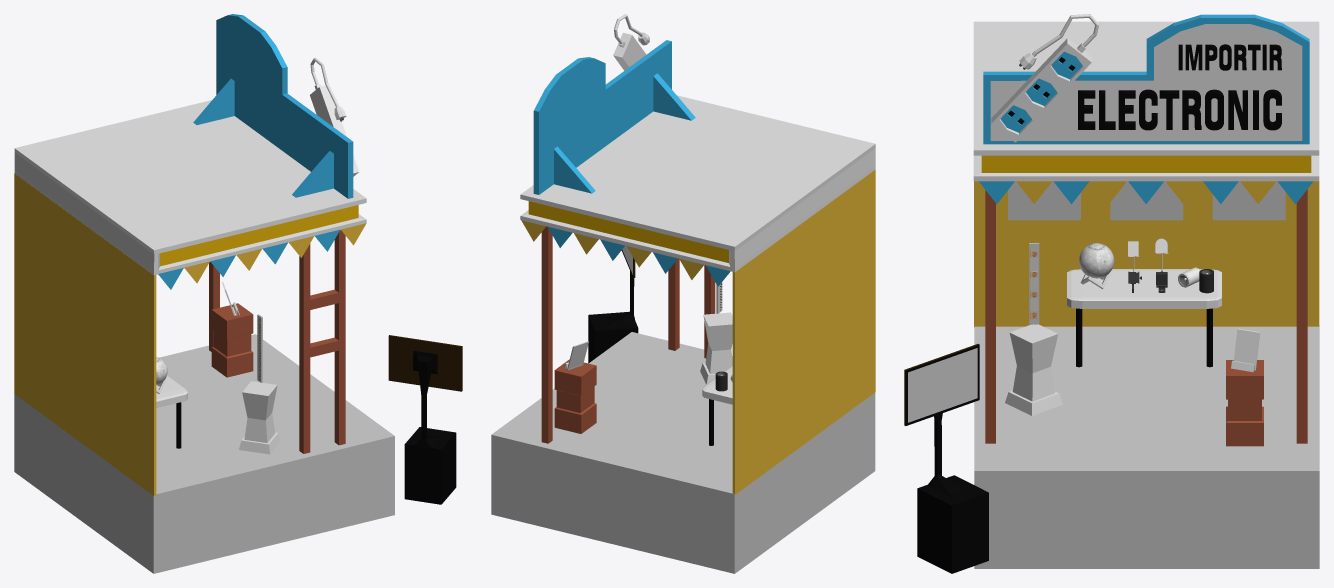
File: Booth_Elec.fbx
3 views of the same model, side by side, from view 1: azimuth 30°, elevation 25°; view 2: azimuth 150°, elevation 25°; view 3: azimuth 270°, elevation 25° (orthographic). The views are drawn at different scales.
Visible parts, largest first — view 1: Cube.109, Cube.041, Cube.044, Cube.051, Cube.043, Cube.114, Cube.115, Cube.119, Cube.167, Plane.017, Plane.016, Cube.088 (+2 smaller); view 2: Cube.109, Cube.041, Cube.044, Cube.051, Cube.119, Cube.042, Cube.114, Cube.167, Cube.043, Plane.020, Plane.021, Cube.088 (+1 smaller); view 3: Cube.109, Cube.044, Cube.051, Cube.041, Cube.114, Cube.117, Text.023, Cube.115, Cube.088, Cube.167, Cube.119, Cube.042 (+11 smaller).
Boxes of the visible parts, x1=… form: Cube.109: x1=14, y1=334, x2=394, y2=573; Cube.041: x1=14, y1=100, x2=366, y2=275; Cube.044: x1=14, y1=173, x2=156, y2=495; Cube.051: x1=193, y1=14, x2=353, y2=198; Cube.043: x1=299, y1=230, x2=345, y2=453; Cube.114: x1=404, y1=350, x2=456, y2=504; Cube.115: x1=388, y1=335, x2=462, y2=391; Cube.119: x1=211, y1=303, x2=253, y2=377; Cube.167: x1=239, y1=381, x2=280, y2=454; Plane.017: x1=184, y1=223, x2=366, y2=283; Plane.016: x1=158, y1=229, x2=339, y2=289; Cube.088: x1=310, y1=84, x2=359, y2=176; Cube.109: x1=491, y1=332, x2=875, y2=573; Cube.041: x1=520, y1=95, x2=875, y2=272; Cube.044: x1=732, y1=169, x2=875, y2=494; Cube.051: x1=533, y1=40, x2=695, y2=194; Cube.119: x1=554, y1=359, x2=596, y2=433; Cube.042: x1=541, y1=226, x2=552, y2=443; Cube.114: x1=588, y1=271, x2=638, y2=363; Cube.167: x1=700, y1=312, x2=732, y2=384; Cube.043: x1=668, y1=258, x2=715, y2=358; Plane.020: x1=548, y1=227, x2=730, y2=286; Plane.021: x1=521, y1=220, x2=703, y2=279; Cube.088: x1=613, y1=32, x2=649, y2=70; Cube.109: x1=974, y1=325, x2=1319, y2=568; Cube.044: x1=974, y1=181, x2=1319, y2=327; Cube.051: x1=983, y1=14, x2=1309, y2=144; Cube.041: x1=973, y1=21, x2=1319, y2=181; Cube.114: x1=917, y1=413, x2=988, y2=573; Cube.117: x1=1067, y1=269, x2=1221, y2=367; Text.023: x1=1078, y1=89, x2=1281, y2=130; Cube.115: x1=904, y1=344, x2=979, y2=425; Cube.088: x1=991, y1=38, x2=1091, y2=142; Cube.167: x1=1005, y1=324, x2=1062, y2=415; Cube.119: x1=1226, y1=360, x2=1263, y2=446; Cube.042: x1=1296, y1=189, x2=1307, y2=443.
Size of the model in its own units: 575 by 807 by 568.
